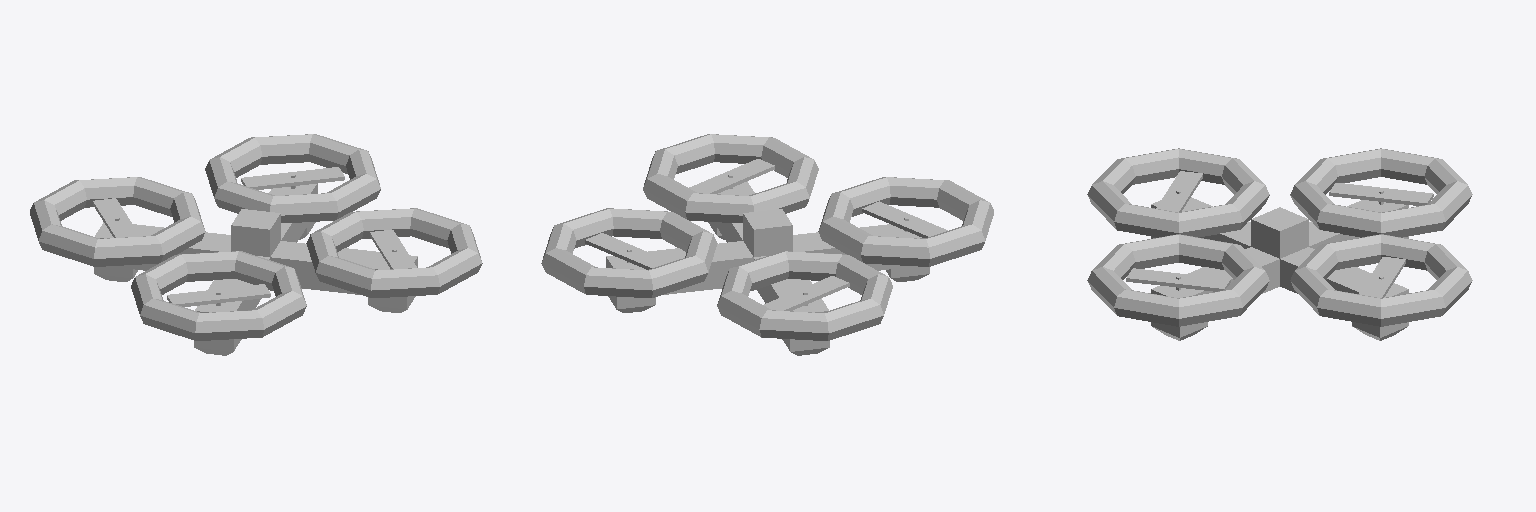
Rendered from drone.obj.
The picture shows the model from 3 angles: view 1: azimuth 30°, elevation 25°; view 2: azimuth 150°, elevation 25°; view 3: azimuth 270°, elevation 25°; orthographic projection.
Parts seen in each view (by area): view 1: Torus; view 2: Torus; view 3: Torus.
Part boxes in pixels (left/top/right/bottom): Torus: left=30, top=134, right=482, bottom=355; Torus: left=541, top=134, right=993, bottom=355; Torus: left=1087, top=148, right=1472, bottom=340.
Bounding box in the file's own units: 1.9 × 0.4 × 1.9.